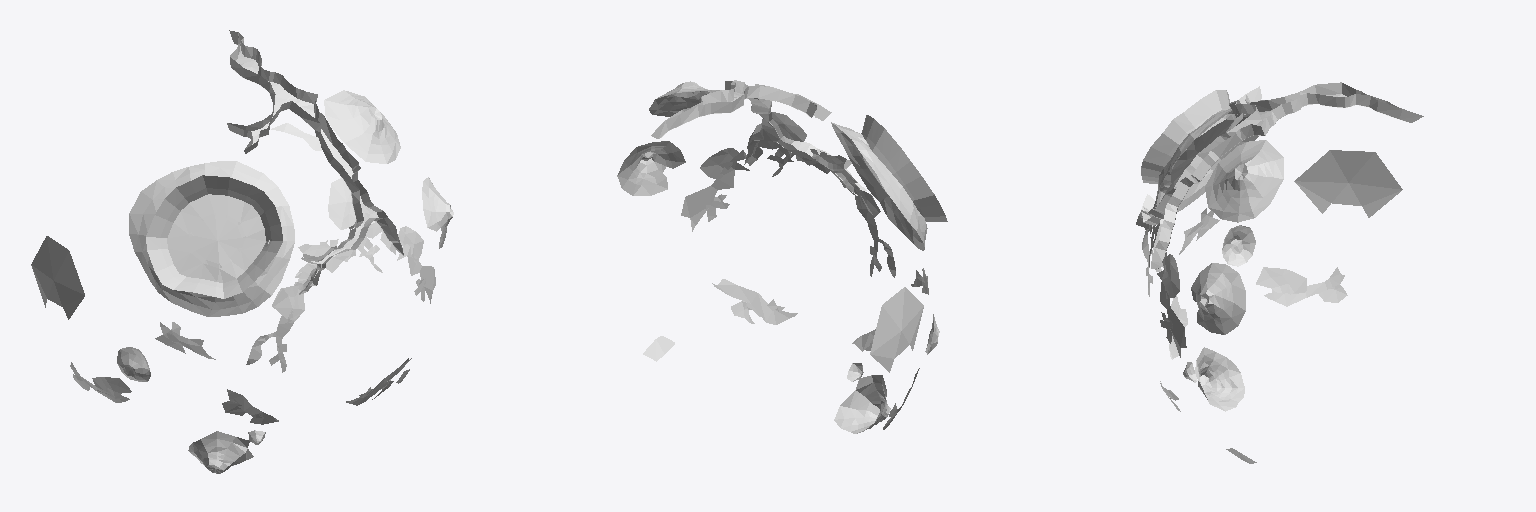
The model's file is stg610_MotLiquid_19.obj.
3 renders of one model, left to right at view 1: azimuth 30°, elevation 25°; view 2: azimuth 150°, elevation 25°; view 3: azimuth 270°, elevation 25°, orthographic.
Visible parts, largest first — view 1: polygon1, polygon2, polygon3, polygon0; view 2: polygon3, polygon2, polygon1, polygon0; view 3: polygon2, polygon3, polygon1, polygon0.
Part boxes in pixels (bbox=[...]): polygon1: bbox=[146, 30, 403, 298]; polygon2: bbox=[117, 90, 453, 473]; polygon3: bbox=[31, 123, 435, 424]; polygon0: bbox=[189, 44, 354, 268]; polygon3: bbox=[643, 112, 928, 429]; polygon2: bbox=[617, 81, 939, 433]; polygon1: bbox=[651, 80, 947, 221]; polygon0: bbox=[661, 98, 886, 194]; polygon2: bbox=[1156, 100, 1283, 411]; polygon3: bbox=[1142, 113, 1402, 463]; polygon1: bbox=[1136, 82, 1423, 268]; polygon0: bbox=[1155, 100, 1405, 253].
Size of the model in its own units: 3676 by 3687 by 2739.